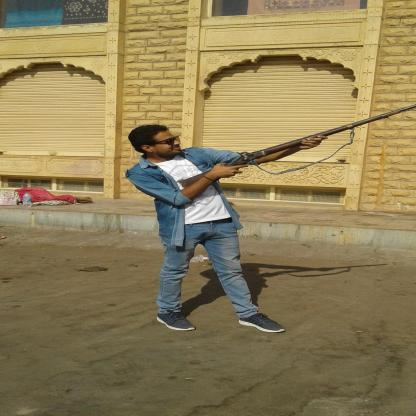rifle: (176, 104, 416, 190)
